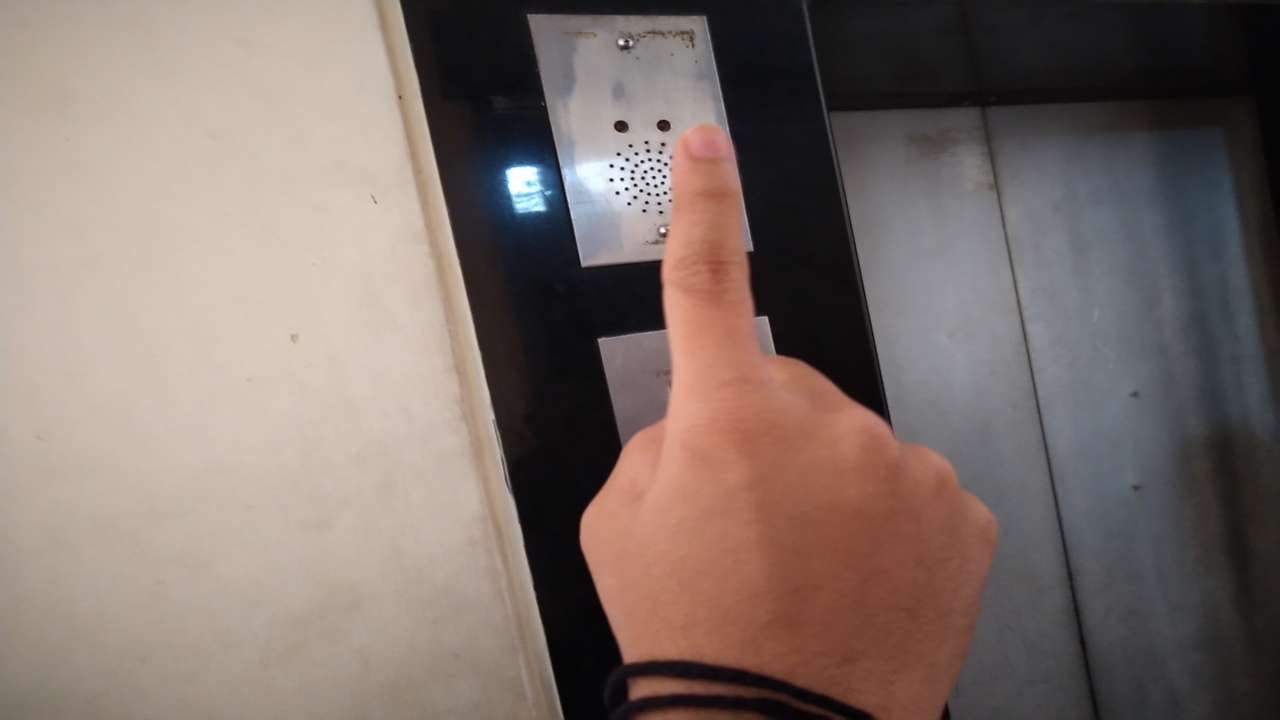fingertip: (670, 120, 732, 178)
